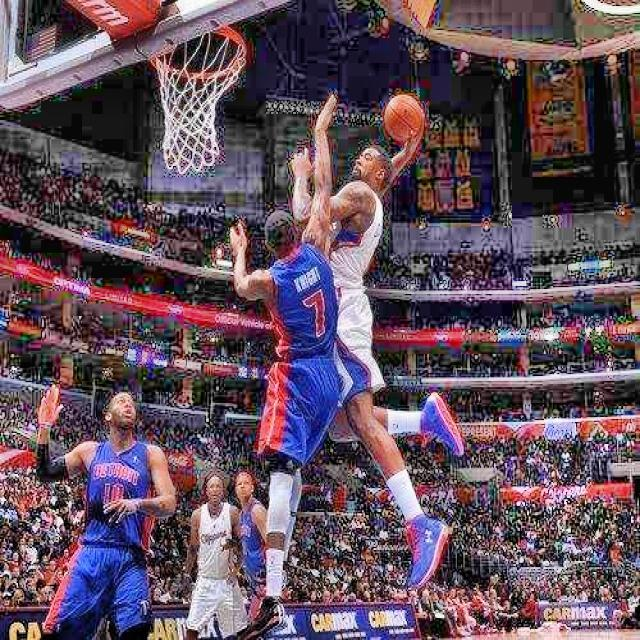board: (385, 93, 423, 142)
rim: (150, 22, 247, 171)
